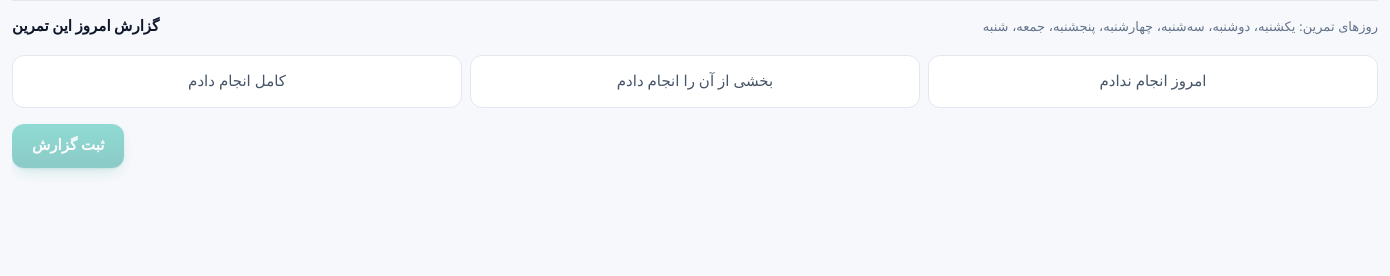
Test: per-exercise reporting › requires explicit status and pain before submitting
This screenshot has width=1390, height=276.
Expected: the button "ثبت گزارش" is disabled, [12,124,124,168]
Click the button "کامل انجام دادم" at (237, 81), box [12,55,462,108]
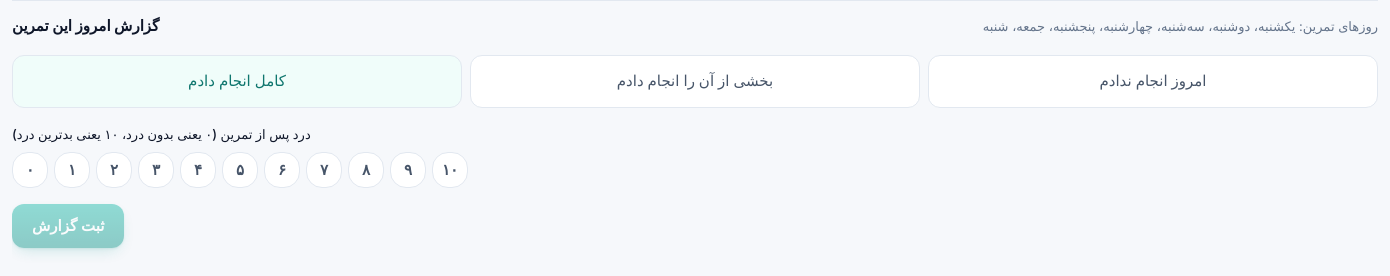
Expected: the button "ثبت گزارش" is disabled, [12,204,124,248]
Click the button named "درد ۰ از ۱۰" at (30, 170), box [12,152,48,188]
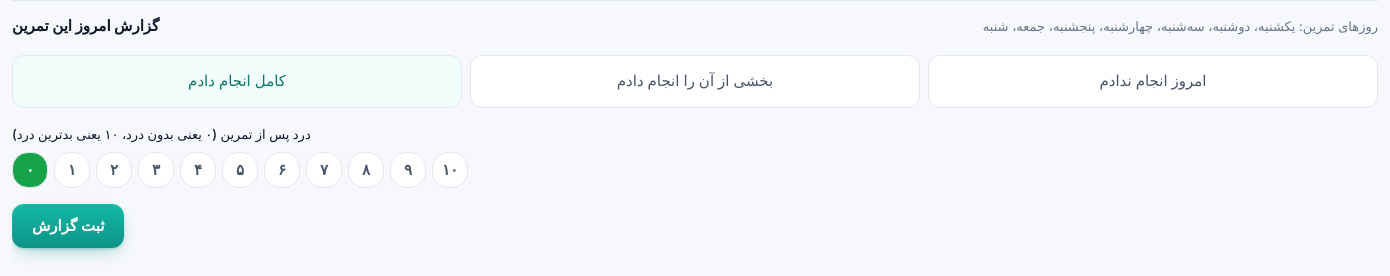
Expected: the button "ثبت گزارش" is enabled, [12,204,124,248]
